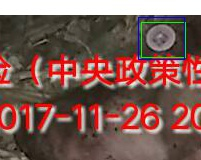text: (141, 22, 185, 57)
